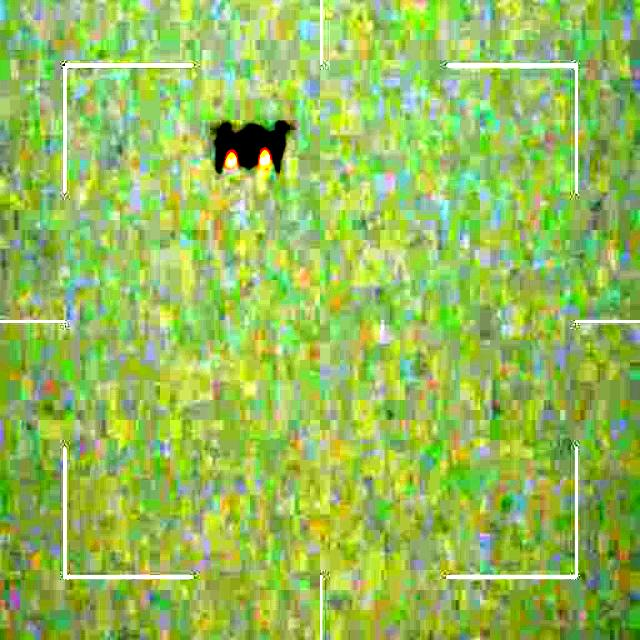bird: (209, 118, 295, 175)
